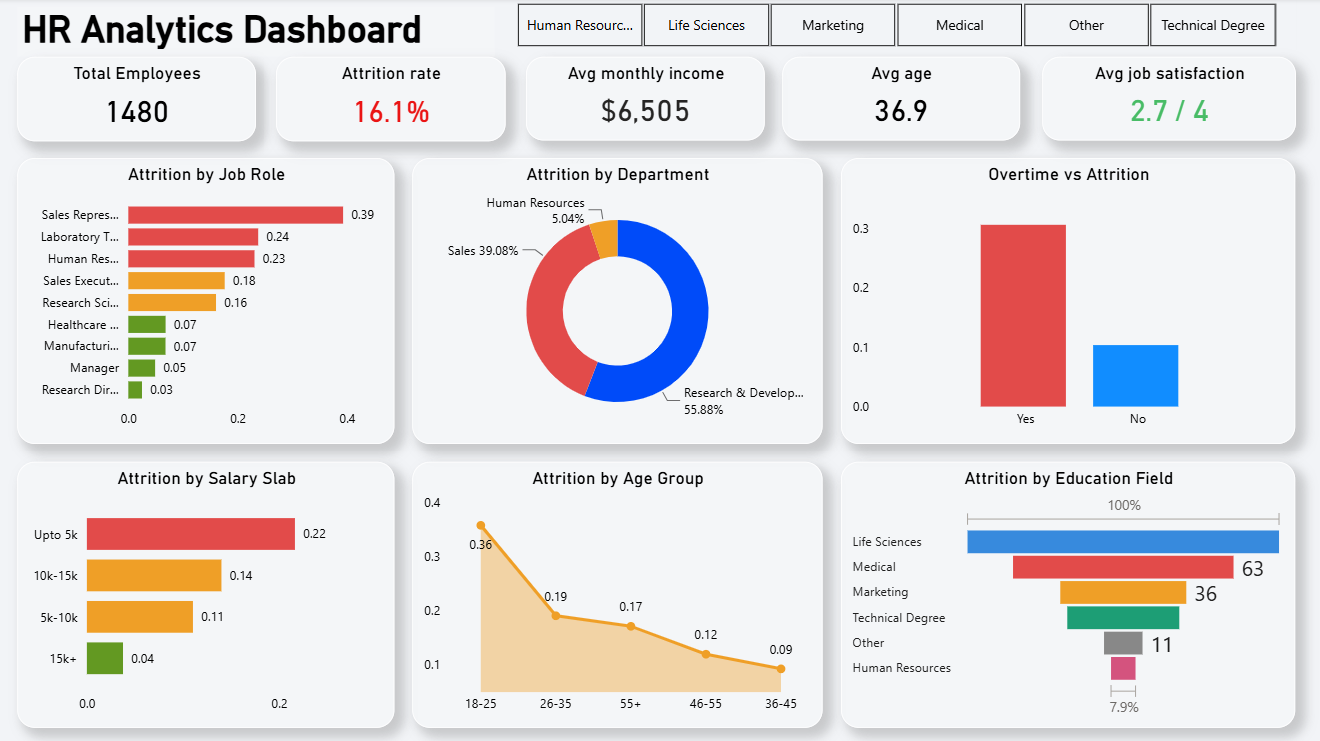

This screenshot's page, from the dashboard's own definition file:
{"tool":"powerbi","page":{"name":"Page 1","canvas":[1280,720],"ordinal":0},"visuals":[{"type":"card","title":"Total Employees","fields":{"Values":["HR_Analytics.Total Employees"]},"box":[20,57.1,230,81.4],"z":0},{"type":"card","title":"Attrition rate","fields":{"Values":["HR_Analytics.Attrition Rate"]},"box":[270,57.1,221.4,81.4],"z":1000},{"type":"card","title":"Avg monthly income","fields":{"Values":["HR_Analytics.Avg Income Label"]},"box":[511.5,56.7,230.4,80.8],"z":2000},{"type":"card","title":"Avg age","fields":{"Values":["HR_Analytics.Avg Age"]},"box":[758.9,56.7,229.2,80.8],"z":3000},{"type":"card","title":"Avg job satisfaction","fields":{"Values":["HR_Analytics.Satisfaction Label"]},"box":[1009.8,56.7,244.9,80.8],"z":4000},{"type":"clusteredBarChart","title":"Attrition by Job Role","fields":{"Category":["HR_Analytics.JobRole"],"Y":["HR_Analytics.Attrition Rate"]},"box":[20,154.3,364.3,275.7],"z":5000},{"type":"donutChart","title":"Attrition by Department","fields":{"Category":["HR_Analytics.Department"],"Y":["HR_Analytics.Attrition Count"]},"box":[401.4,154.3,395.7,275.7],"z":6000},{"type":"clusteredColumnChart","title":"Overtime vs Attrition","fields":{"Category":["HR_Analytics.OverTime"],"Y":["HR_Analytics.Attrition Rate"]},"box":[815.7,154.3,438.6,275.7],"z":7000},{"type":"clusteredBarChart","title":"Attrition by Salary Slab","fields":{"Category":["HR_Analytics.SalarySlab"],"Y":["HR_Analytics.Attrition Rate"]},"box":[20,447.1,364.3,257.1],"z":8000},{"type":"lineChart","title":"Attrition by Age Group","fields":{"Category":["HR_Analytics.AgeGroup"],"Y":["HR_Analytics.Attrition Rate"]},"box":[401.4,447.1,395.7,257.1],"z":9000},{"type":"funnel","title":"Attrition by Education Field","fields":{"Category":["HR_Analytics.EducationField"],"Y":["HR_Analytics.Attrition Count"]},"box":[815.7,447.1,438.6,257.1],"z":10000},{"type":"textbox","title":"HR Analytics Dashboard","box":[20.5,8.4,460.9,48.3],"z":11000},{"type":"slicer","fields":{"Values":["HR_Analytics.EducationField"]},"box":[481.4,2.4,773.3,47.1],"z":12000}]}

Visuals, with their boxes in screenshot pixels (x1, y1, x2, y2), scaled from the page's 1280x720 canvas onto the 1320x741 screenshot:
"Total Employees" card: bbox=[21, 59, 258, 143]
"Attrition rate" card: bbox=[278, 59, 507, 143]
"Avg monthly income" card: bbox=[527, 58, 765, 142]
"Avg age" card: bbox=[783, 58, 1019, 142]
"Avg job satisfaction" card: bbox=[1041, 58, 1294, 142]
"Attrition by Job Role" clusteredBarChart: bbox=[21, 159, 396, 443]
"Attrition by Department" donutChart: bbox=[414, 159, 822, 443]
"Overtime vs Attrition" clusteredColumnChart: bbox=[841, 159, 1293, 443]
"Attrition by Salary Slab" clusteredBarChart: bbox=[21, 460, 396, 725]
"Attrition by Age Group" lineChart: bbox=[414, 460, 822, 725]
"Attrition by Education Field" funnel: bbox=[841, 460, 1293, 725]
"HR Analytics Dashboard" textbox: bbox=[21, 9, 496, 58]
slicer - HR_Analytics.EducationField: bbox=[496, 2, 1294, 51]
